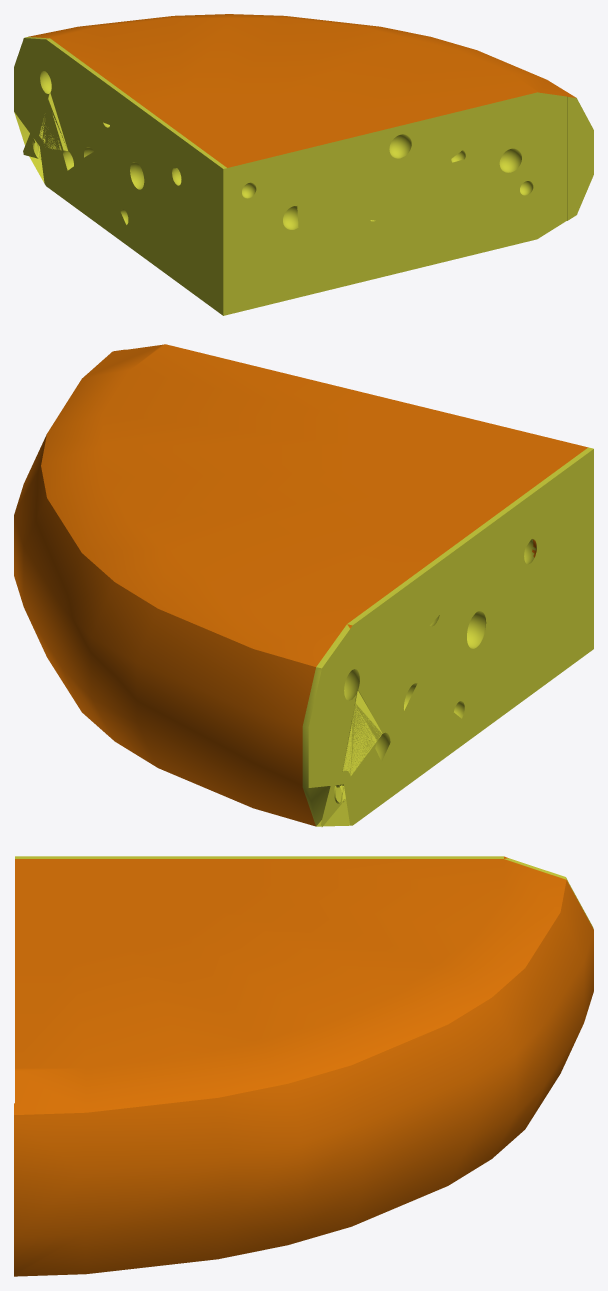
The model's file is Käse4.fbx.
3 renders of one model, top to bottom at view 1: azimuth 30°, elevation 25°; view 2: azimuth 150°, elevation 25°; view 3: azimuth 270°, elevation 25°, orthographic. The views are drawn at different scales.
Parts seen in each view (by area): view 1: pCylinder24; view 2: pCylinder24; view 3: pCylinder24.
Boxes of the visible parts, left/top/right/bottom form: pCylinder24: left=14, top=14, right=593, bottom=315; pCylinder24: left=14, top=344, right=593, bottom=826; pCylinder24: left=14, top=856, right=593, bottom=1276.
Bounding box in the file's own units: 0.9926 × 0.3763 × 0.975.
